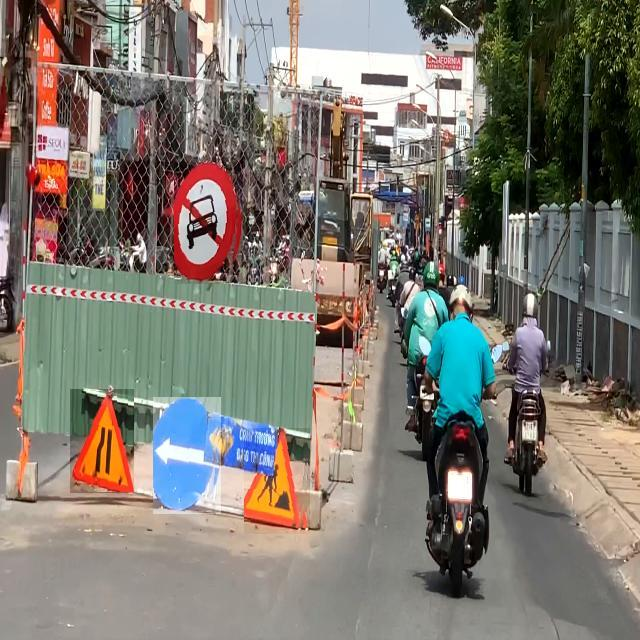P-103a: (174, 162, 243, 284)
R-301c: (154, 397, 222, 514)
W-203b: (70, 390, 134, 494)
W-227: (244, 428, 310, 534)
